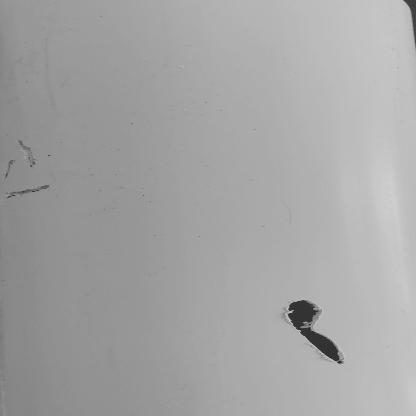fengxi: (16, 141, 38, 170), (1, 186, 48, 197), (2, 162, 14, 181)
kongdong: (284, 300, 343, 366)
